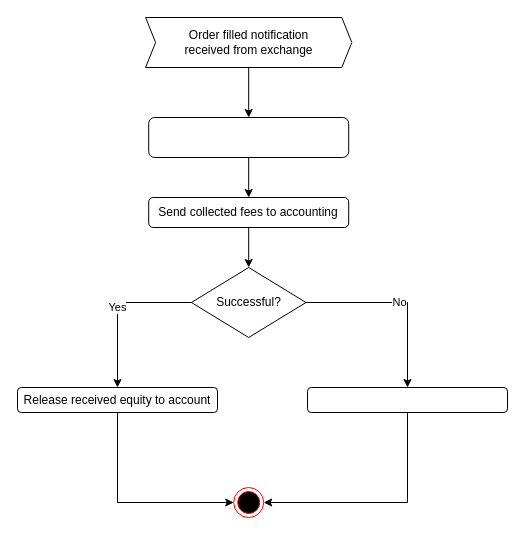
Some shapes in this 525 by 535 pixel diagram are drawn without their labels. The shapes that lost their labels are listed below. From the top down, each one's box as (x1, y1, x2, y2) in pixels, then its label:
(148, 116, 349, 158): Send requested equity to exchange
(306, 386, 508, 412): Error
